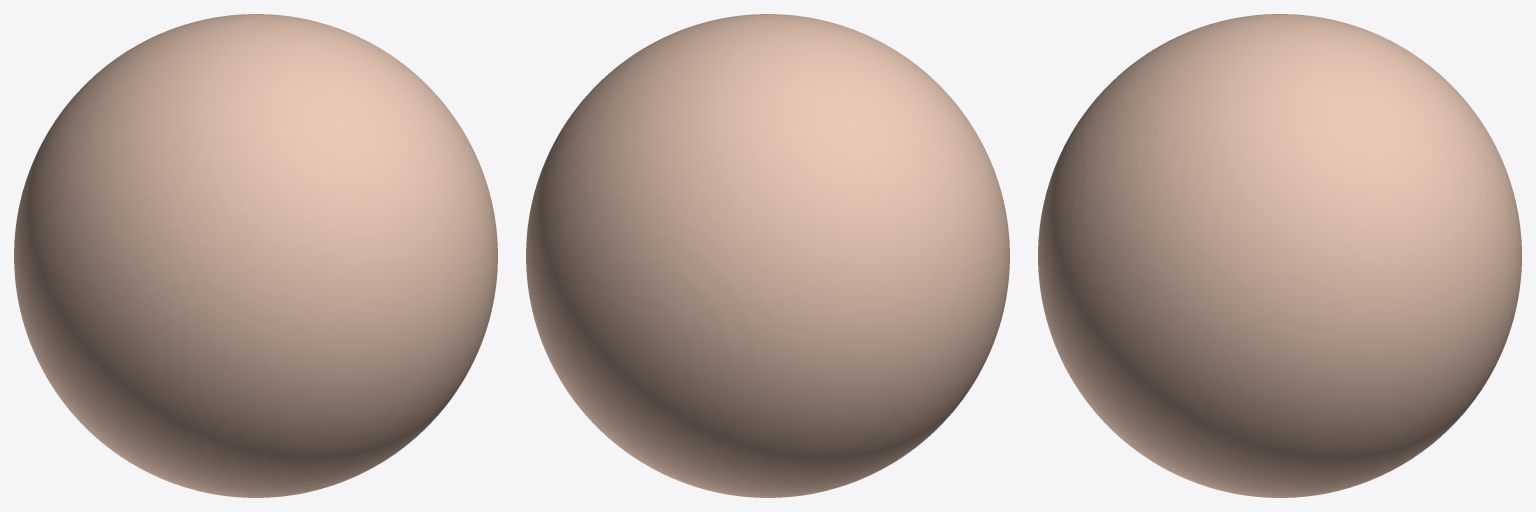
Rendered from Mutiara.gltf.
3 views of the same model, side by side, from view 1: azimuth 30°, elevation 25°; view 2: azimuth 150°, elevation 25°; view 3: azimuth 270°, elevation 25° (orthographic).
Parts seen in each view (by area): view 1: Mball.001; view 2: Mball.001; view 3: Mball.001.
Part boxes in pixels (box(x1,y1,x2,y2)): Mball.001: box(14, 14, 497, 497); Mball.001: box(526, 14, 1009, 497); Mball.001: box(1038, 14, 1521, 497).
Bounding box in the file's own units: 0.2961 × 0.2961 × 0.2961.
